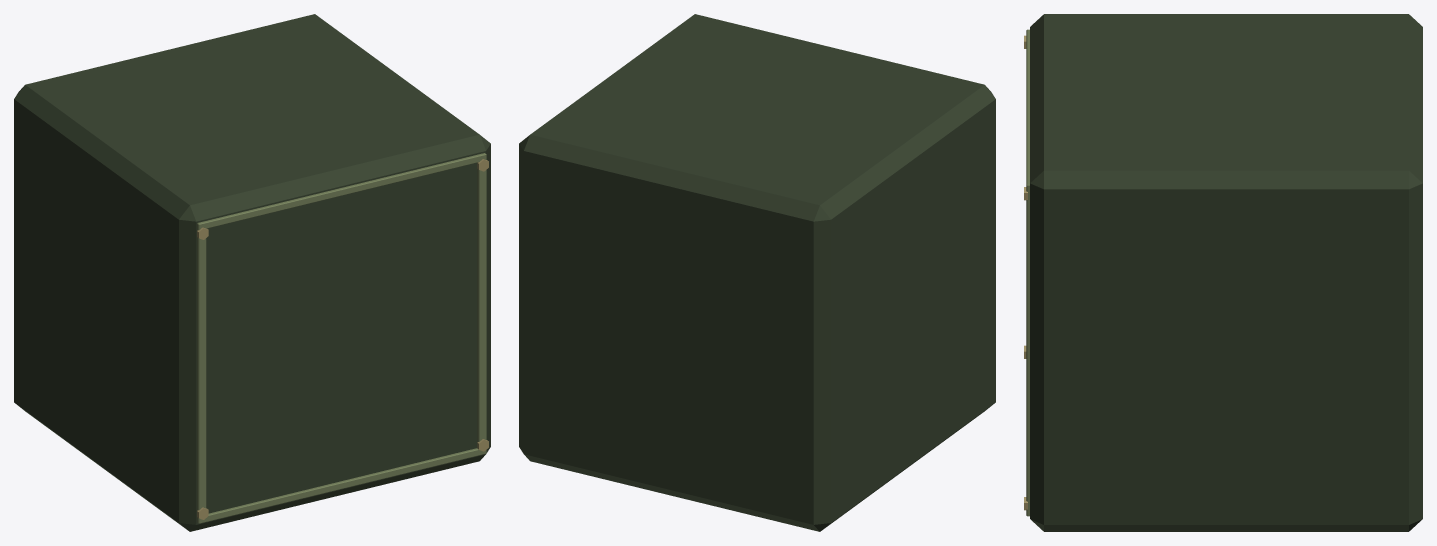
Rendered from ironStructure.obj.
3 renders of one model, left to right at view 1: azimuth 30°, elevation 25°; view 2: azimuth 150°, elevation 25°; view 3: azimuth 270°, elevation 25°, orthographic. The views are drawn at different scales.
Visible parts, largest first — view 1: ironStructure; view 2: ironStructure; view 3: ironStructure.
Part boxes in pixels (box(x1,y1,x2,y2)): ironStructure: box(14, 14, 490, 531); ironStructure: box(519, 14, 995, 531); ironStructure: box(1024, 14, 1422, 531).
Size of the model in its own units: 1 by 1 by 1.
1 material, 1 textured.
